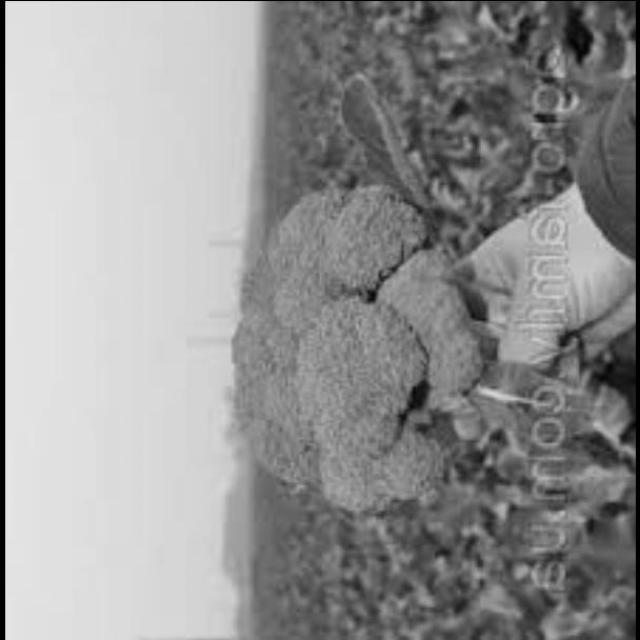bong cai xanh: (226, 172, 494, 536)
